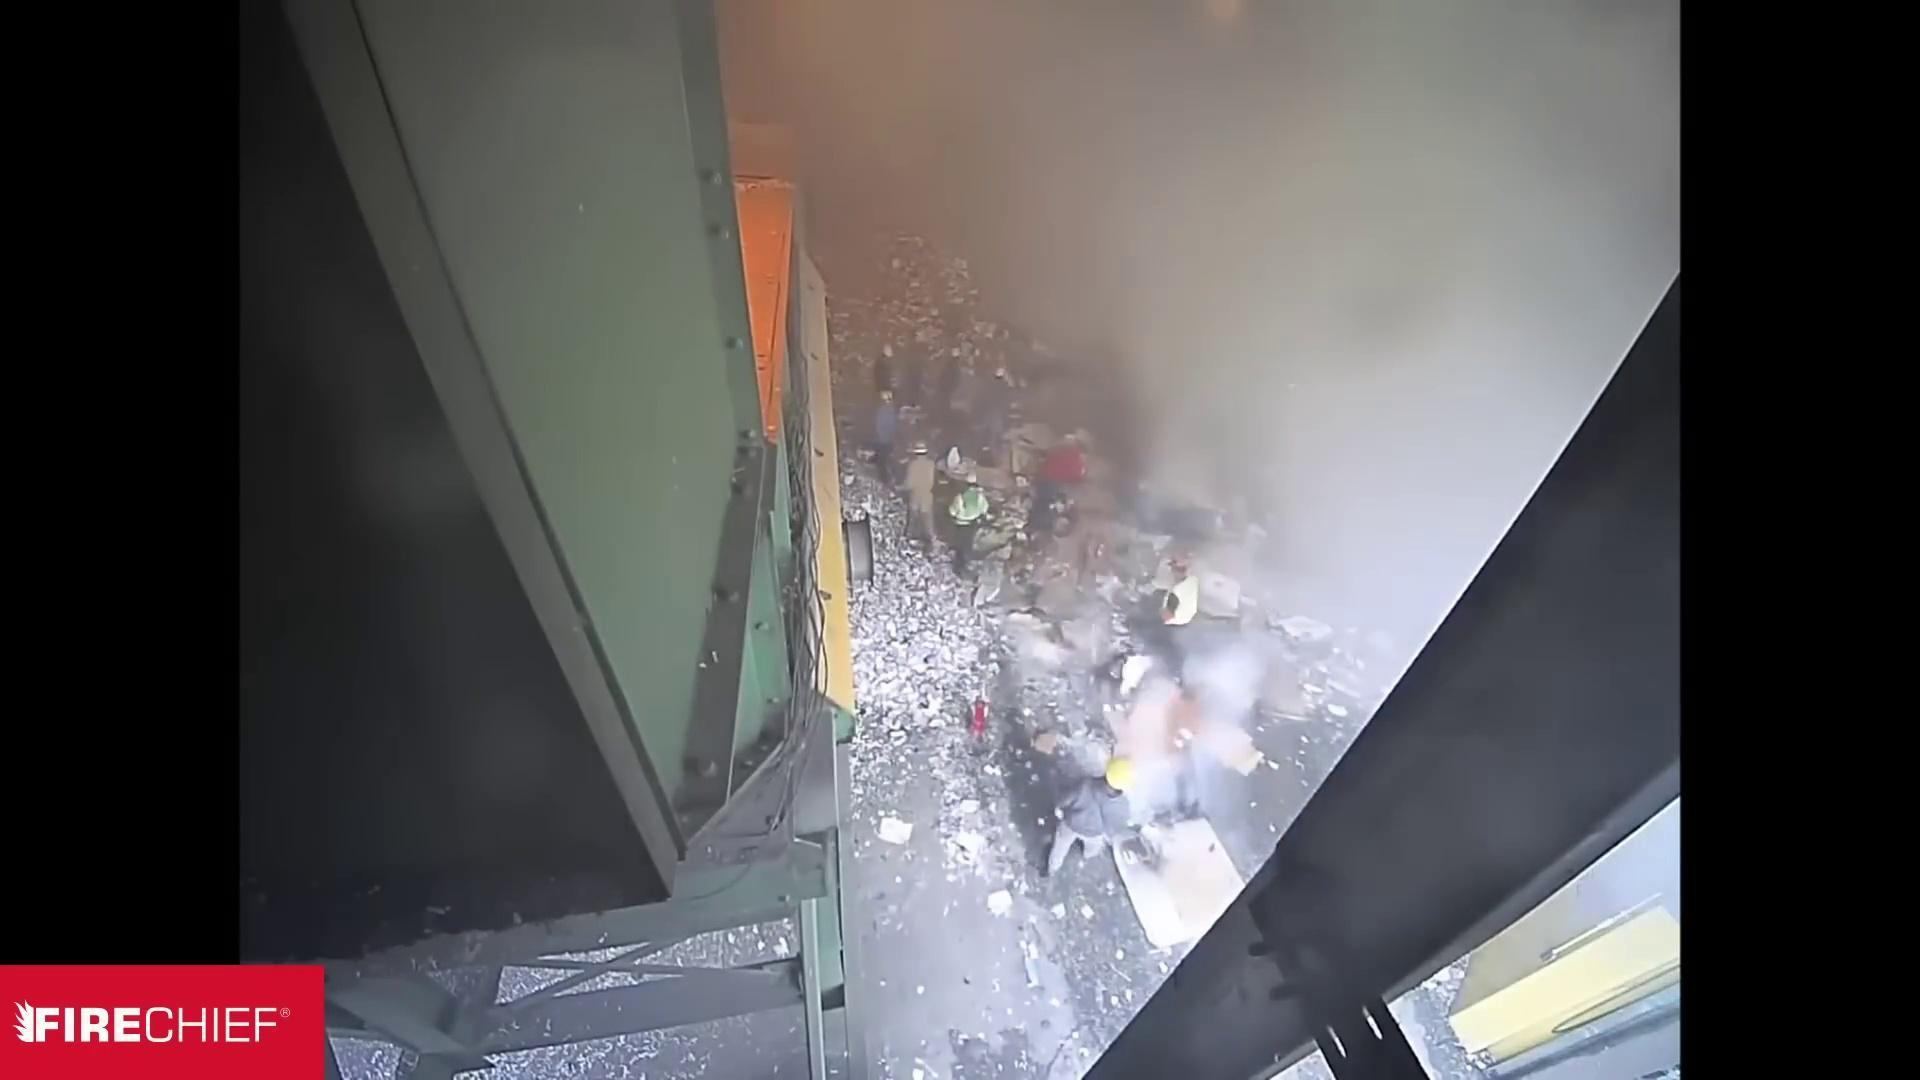smoke: (828, 258, 1406, 833)
